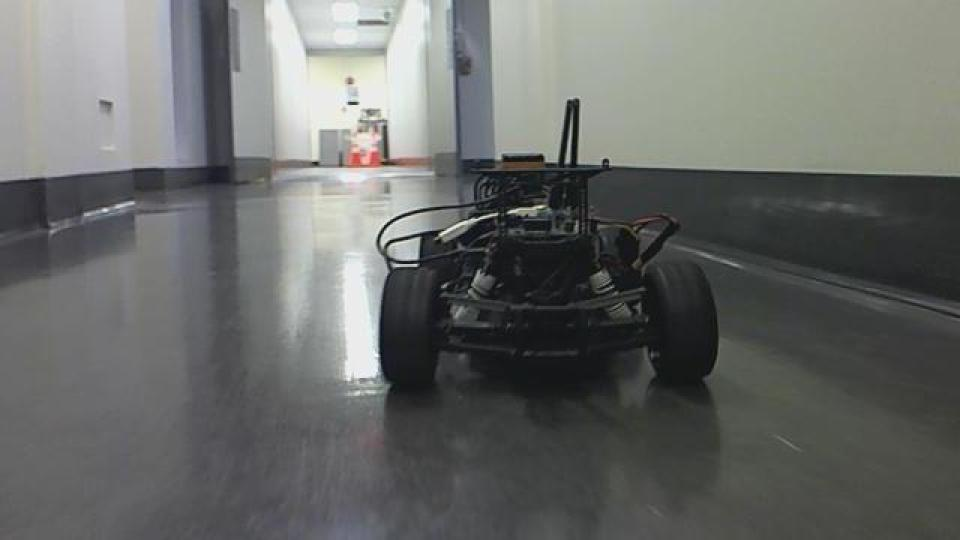car: (372, 96, 722, 392)
